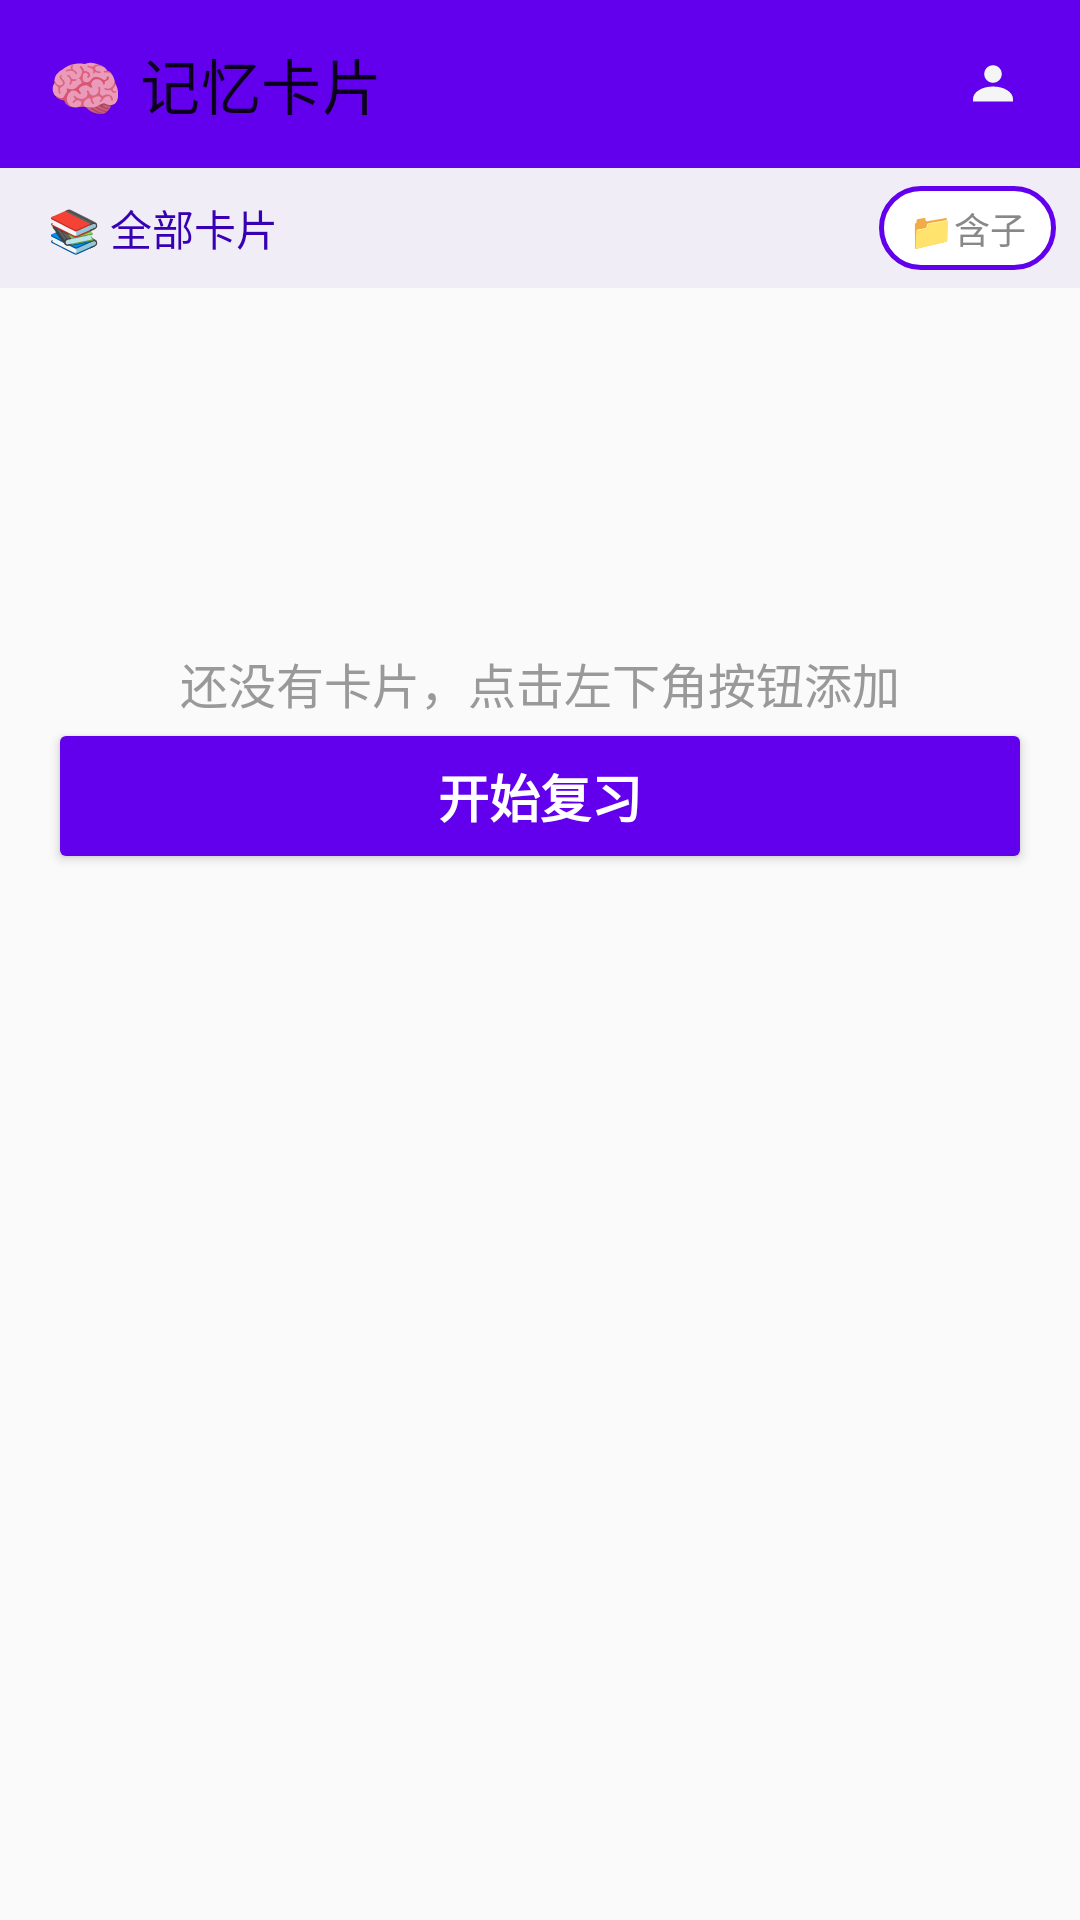

Point at icon controls on the screen. Image size 1080*1920, points as (x=x, y=y).
用户头像: (x=993, y=83)
